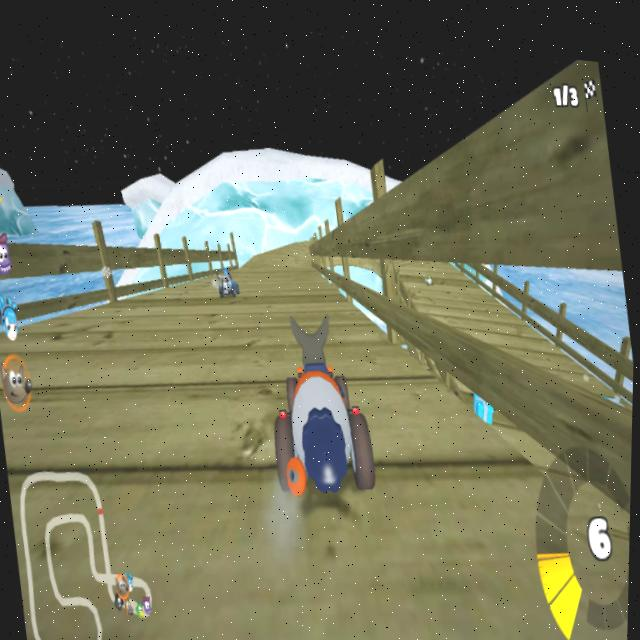enemy_kart: (211, 261, 244, 300)
player_kart: (258, 294, 387, 517)
track: (67, 292, 286, 542), (244, 235, 321, 298)
